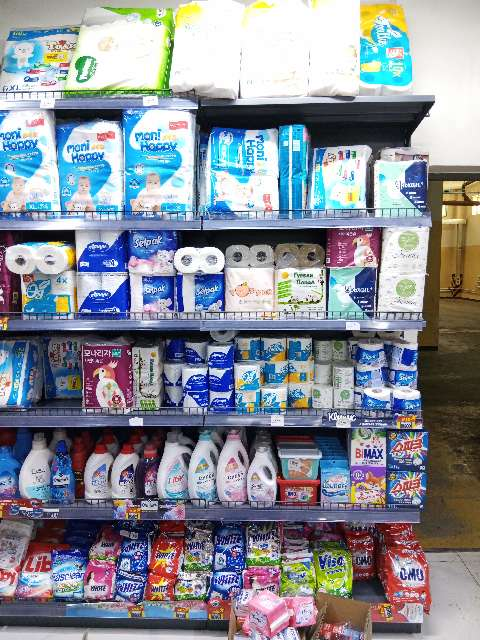ariun: (73, 229, 129, 271), (76, 274, 128, 314), (182, 367, 209, 391), (186, 339, 208, 366), (165, 386, 185, 415), (182, 394, 209, 415), (207, 370, 229, 393), (207, 344, 231, 365), (164, 337, 187, 357), (164, 363, 185, 384), (209, 396, 232, 414)
bimax: (351, 428, 382, 466)
fasclean: (54, 550, 84, 600)
huggies: (76, 8, 167, 89)
liby: (23, 544, 52, 598)
moni happy: (125, 110, 196, 215), (202, 127, 280, 213), (61, 120, 121, 215), (1, 110, 58, 209)
omo: (386, 550, 428, 602), (344, 530, 378, 579)
panda: (279, 268, 322, 318)
selpak: (131, 272, 176, 319), (131, 230, 174, 272), (179, 275, 223, 315), (390, 367, 421, 414), (357, 376, 387, 409), (390, 339, 419, 372), (355, 340, 384, 370)
tody: (4, 29, 73, 92), (312, 148, 366, 212), (41, 336, 86, 402), (0, 337, 37, 408)
toorkhon: (224, 268, 274, 316)
ud: (19, 274, 74, 313), (231, 363, 260, 392), (233, 336, 260, 362), (260, 336, 286, 362), (261, 389, 285, 415), (262, 363, 288, 386), (290, 336, 312, 359), (290, 363, 311, 387), (289, 388, 313, 407), (237, 394, 259, 413)
viso: (318, 551, 350, 594), (284, 561, 314, 593)
white: (84, 559, 116, 600), (184, 528, 213, 573), (214, 528, 241, 570), (150, 536, 179, 575), (118, 534, 144, 571), (117, 574, 144, 604), (147, 574, 173, 599), (96, 529, 117, 558), (212, 573, 239, 595)
